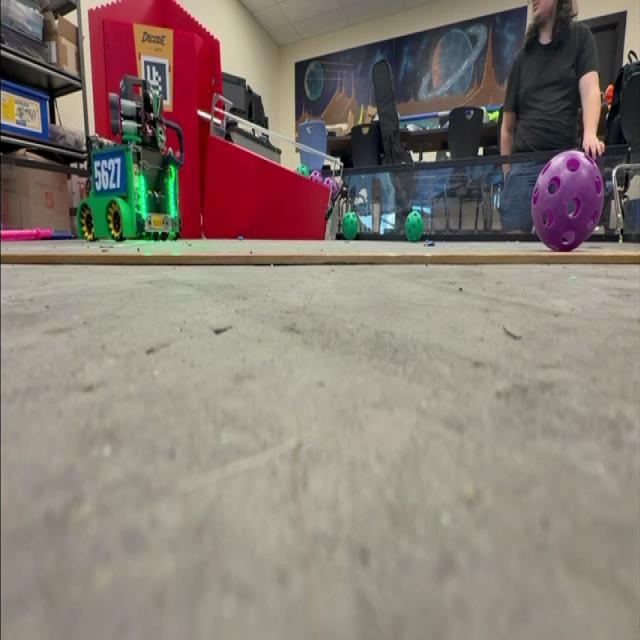artifact_green: (405, 211, 423, 242), (342, 212, 358, 239), (297, 164, 309, 177)
artifact_purple: (532, 151, 604, 251), (324, 176, 339, 198), (310, 171, 323, 183)
